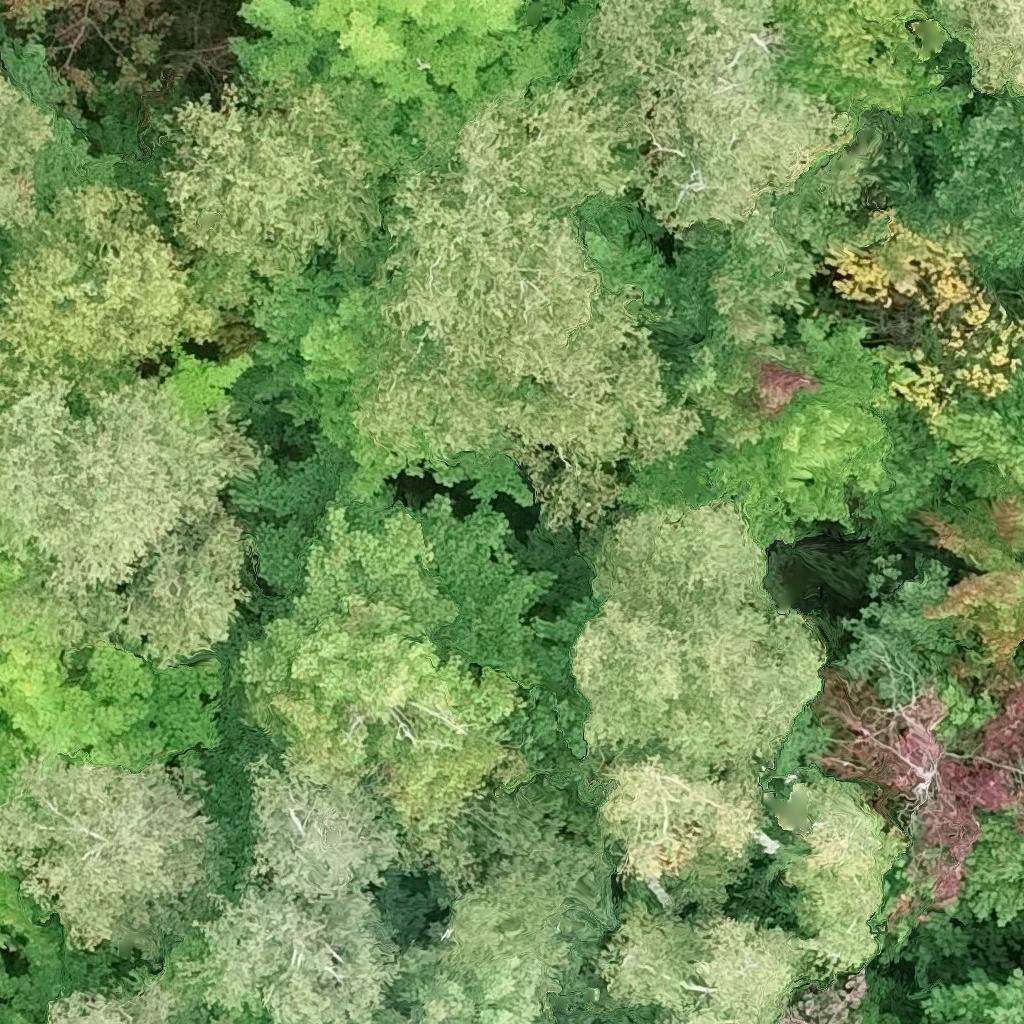crown: (227, 440, 610, 857), (583, 221, 922, 548), (307, 73, 666, 378), (167, 755, 406, 1023), (0, 366, 267, 599), (501, 275, 700, 570), (153, 73, 395, 314), (627, 0, 861, 244), (0, 180, 237, 409), (0, 751, 234, 957), (229, 0, 570, 137), (823, 203, 1023, 414), (0, 590, 222, 770), (5, 508, 249, 669), (865, 89, 1023, 278), (593, 744, 773, 905), (875, 343, 1023, 532), (357, 330, 540, 481), (658, 603, 824, 767), (782, 766, 907, 975), (588, 493, 781, 628), (601, 908, 810, 1023), (909, 489, 1023, 682), (0, 910, 184, 1023), (572, 601, 699, 748), (931, 805, 1023, 952), (778, 0, 935, 85), (44, 962, 243, 1023), (379, 956, 557, 1023), (575, 0, 688, 103), (0, 71, 52, 273), (930, 0, 1023, 98), (917, 966, 1023, 1023), (780, 968, 864, 1023), (0, 866, 42, 951), (0, 725, 29, 810), (855, 999, 902, 1023), (0, 557, 24, 586), (919, 1020, 925, 1023)
